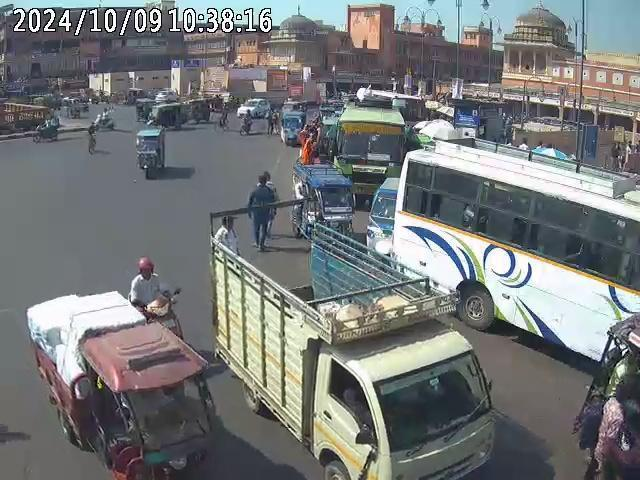auto: (26, 290, 218, 480), (290, 162, 356, 243), (280, 98, 320, 147), (135, 125, 167, 180), (144, 101, 188, 132)
bus: (393, 140, 638, 380), (338, 100, 406, 200)
car: (238, 96, 271, 120)
helmet: (134, 256, 156, 283)
lorry: (208, 222, 494, 479)
motorbike: (239, 115, 254, 136)
motorbike-rider: (33, 118, 61, 143)
person: (247, 174, 276, 252), (215, 214, 240, 255), (299, 127, 318, 166), (531, 139, 555, 160), (516, 136, 530, 152)
scooty-rider: (129, 255, 183, 338), (91, 107, 115, 132)
